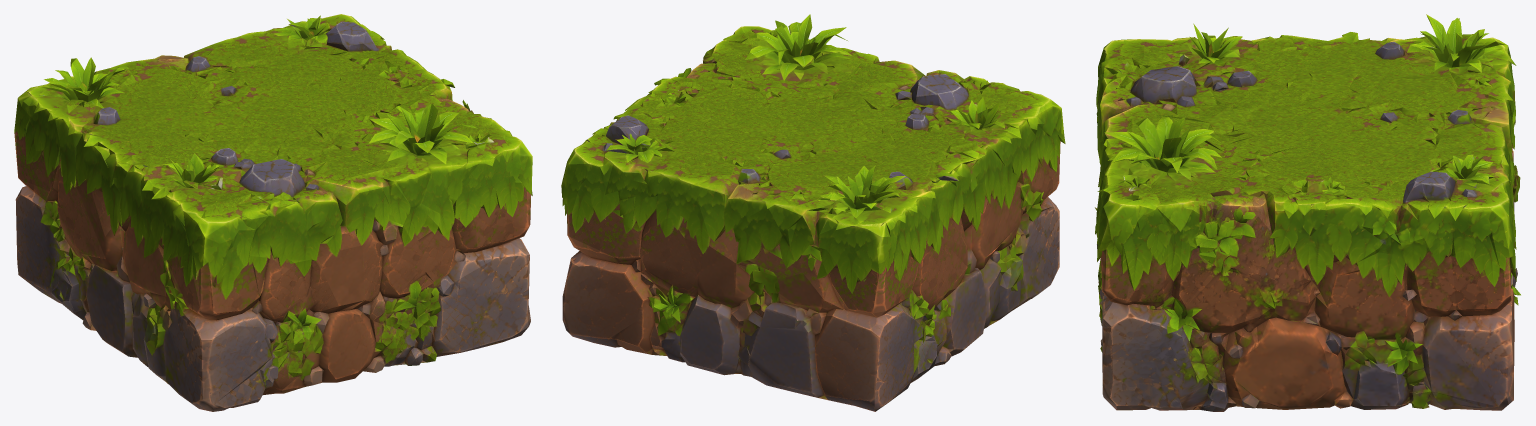
File: grass.glb
3 views of the same model, side by side, from view 1: azimuth 30°, elevation 25°; view 2: azimuth 150°, elevation 25°; view 3: azimuth 270°, elevation 25° (orthographic). The views are drawn at different scales.
Size of the model in its own units: 1.89 by 1.18 by 1.89.
Materials: 1 (1 with a texture image).
